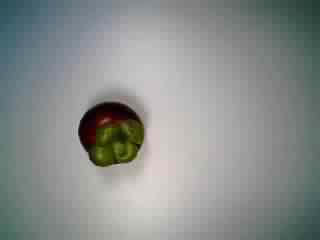mangosteen: (72, 92, 153, 172)
